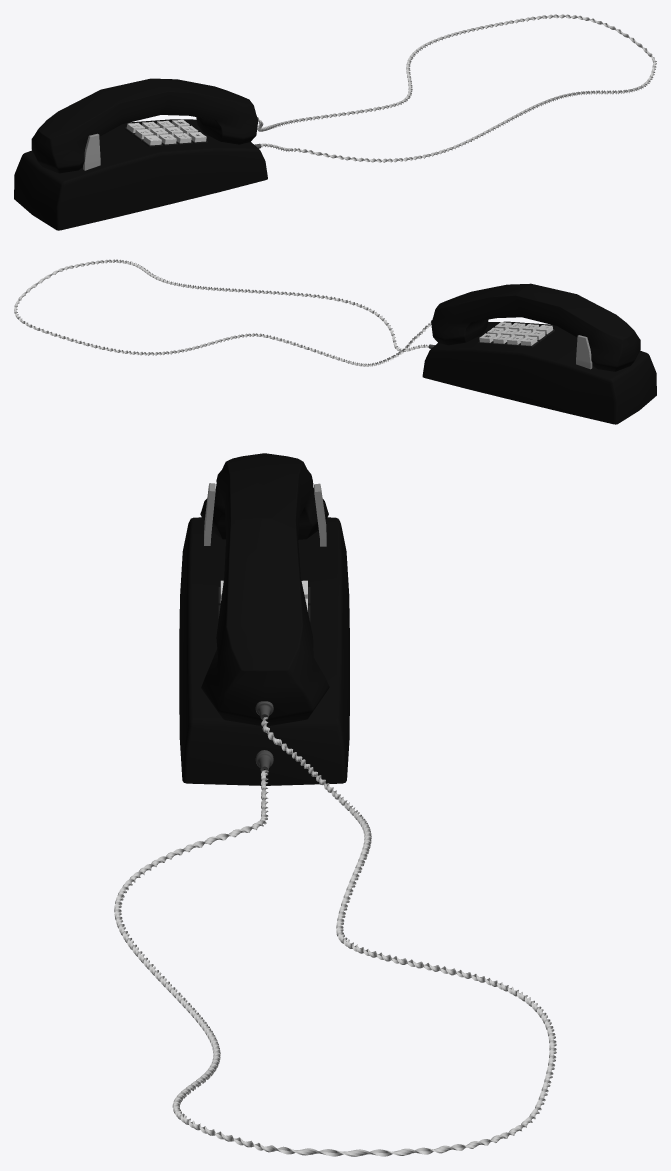
The model's file is corded_public_phone_-_low_poly.glb.
3 views of the same model, one above another, from view 1: azimuth 30°, elevation 25°; view 2: azimuth 150°, elevation 25°; view 3: azimuth 270°, elevation 25° (orthographic). The views are drawn at different scales.
Parts seen in each view (by area): view 1: curve3; view 2: curve3; view 3: curve3.
Boxes of the visible parts, x1=… form: curve3: x1=14, y1=14, x2=656, y2=230; curve3: x1=14, y1=259, x2=656, y2=424; curve3: x1=114, y1=453, x2=556, y2=1156.
Bounding box in the file's own units: 11.49 × 1.76 × 3.79.
Materials: 6 (1 with a texture image).
